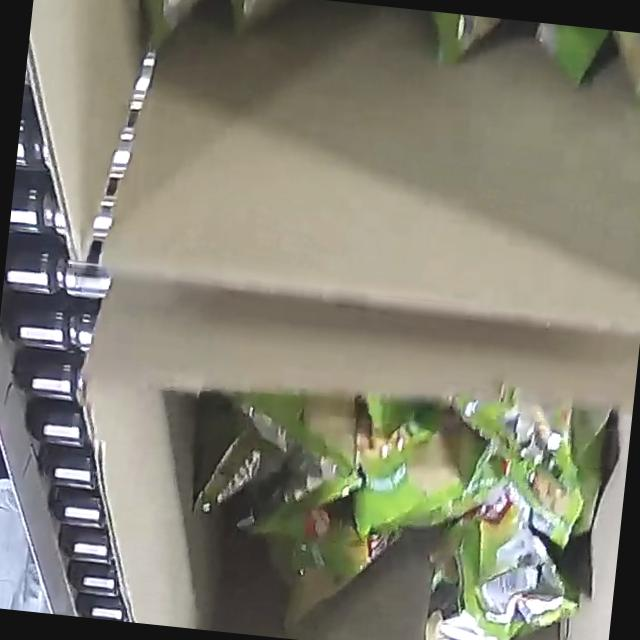yogurt: (172, 354, 613, 640), (159, 0, 640, 124)
